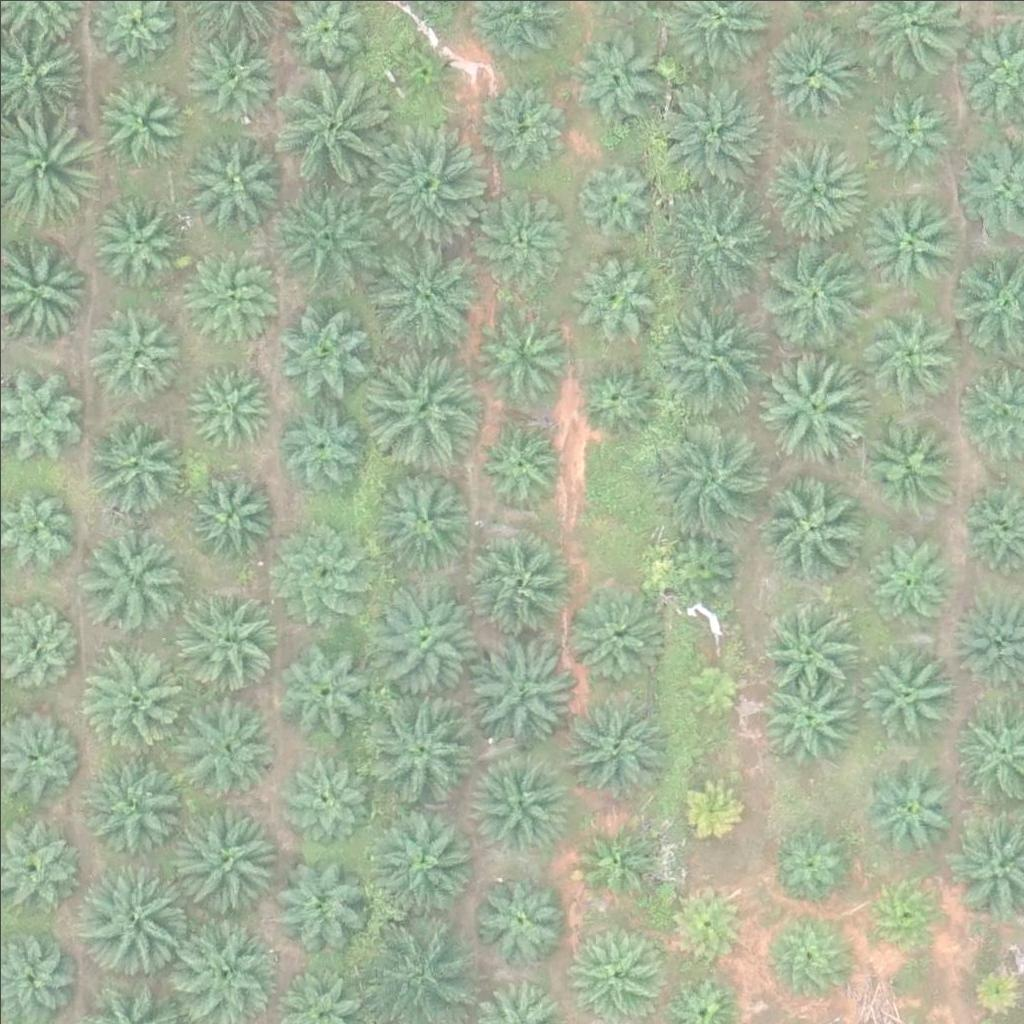Kelapa_Sawit: (274, 71, 387, 185), (365, 576, 478, 690), (558, 692, 671, 806), (651, 299, 764, 413), (754, 471, 867, 585), (83, 640, 196, 753), (362, 695, 475, 808), (365, 358, 478, 471), (460, 627, 573, 740), (761, 344, 874, 457), (363, 908, 476, 1021), (75, 857, 187, 971), (169, 789, 281, 903), (272, 179, 384, 292), (367, 237, 479, 350), (370, 126, 482, 239), (649, 421, 761, 534), (661, 181, 773, 294), (653, 69, 765, 182), (759, 237, 871, 350), (176, 237, 276, 338), (180, 27, 280, 128), (278, 296, 378, 397), (372, 469, 472, 570), (472, 752, 572, 853), (459, 529, 559, 630), (558, 588, 658, 689), (758, 668, 858, 769), (760, 23, 860, 124), (864, 755, 964, 856), (857, 639, 957, 740), (857, 415, 957, 516), (855, 298, 955, 399), (859, 187, 959, 288), (80, 761, 180, 862), (270, 853, 370, 954), (473, 861, 573, 962), (84, 524, 184, 624), (82, 408, 182, 508), (170, 588, 270, 688), (180, 119, 280, 219), (276, 748, 376, 848), (761, 141, 861, 241), (368, 811, 468, 911), (176, 689, 275, 790), (866, 529, 954, 618), (92, 197, 180, 285), (99, 73, 187, 161), (187, 474, 275, 562), (186, 361, 274, 449), (281, 517, 369, 605), (282, 647, 370, 735), (476, 196, 564, 284), (567, 245, 655, 333), (571, 151, 659, 239), (653, 516, 741, 604), (761, 601, 849, 689), (762, 913, 850, 1001), (762, 821, 850, 909), (664, 881, 752, 969), (476, 414, 563, 503), (860, 84, 947, 173), (91, 309, 178, 397), (275, 402, 362, 490), (472, 300, 559, 388), (479, 80, 566, 168), (573, 348, 660, 436), (572, 34, 659, 122), (862, 871, 949, 959), (572, 821, 659, 909), (672, 771, 747, 847), (388, 37, 451, 100), (680, 655, 742, 718)
